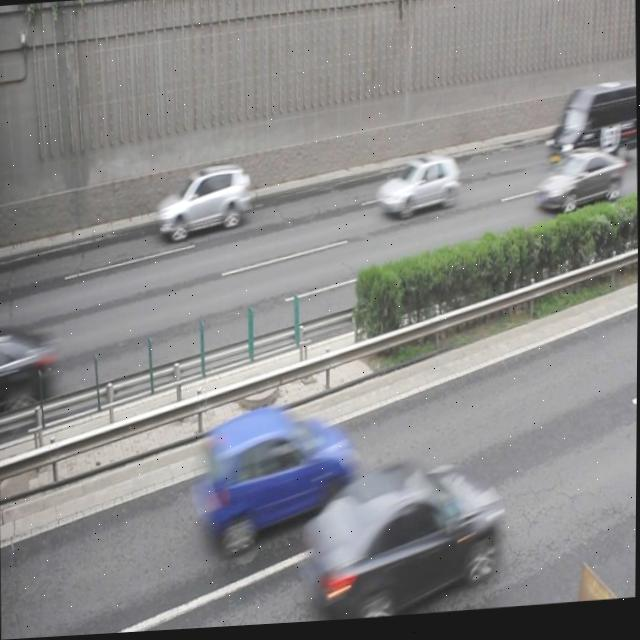car: (301, 455, 503, 626), (194, 405, 354, 556), (157, 163, 250, 246), (535, 152, 623, 221), (375, 155, 460, 223)
truck: (546, 84, 637, 174)
